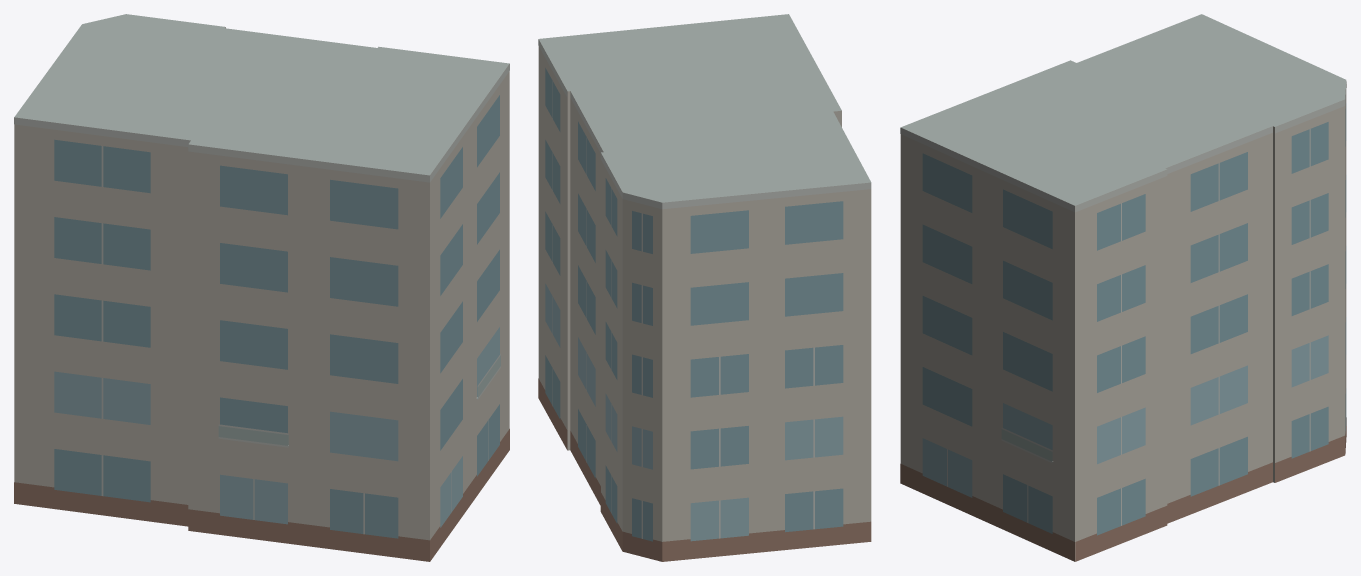
The model's file is survey-upis-32848944.glb.
3 views of the same model, side by side, from view 1: azimuth 30°, elevation 25°; view 2: azimuth 150°, elevation 25°; view 3: azimuth 270°, elevation 25° (orthographic). The views are drawn at different scales.
Visible parts, largest first — view 1: survey-upis-32848944.tmp; view 2: survey-upis-32848944.tmp; view 3: survey-upis-32848944.tmp.
Boxes of the visible parts, <box> form: survey-upis-32848944.tmp: <box>14,14,509,561</box>; survey-upis-32848944.tmp: <box>538,14,871,561</box>; survey-upis-32848944.tmp: <box>900,14,1346,561</box>.
Size of the model in its own units: 15.39 by 13.3 by 15.11.
